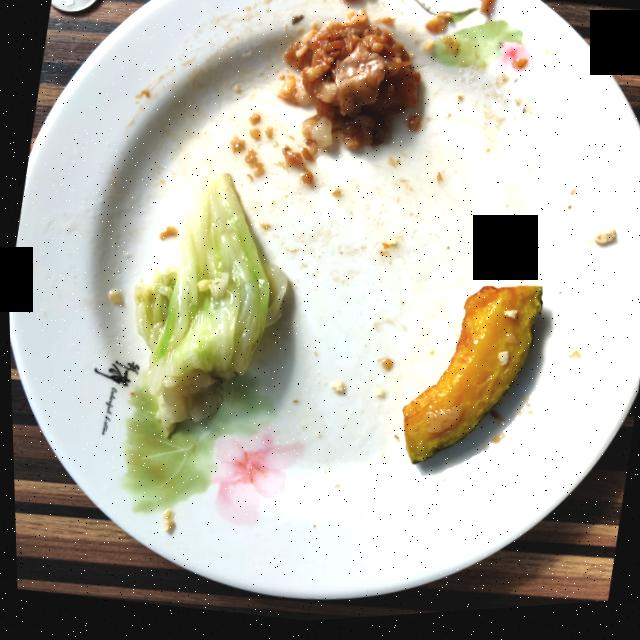Kabayaki sea bream fillet: (284, 15, 419, 150)
cabbage: (132, 175, 286, 436)
coin: (51, 0, 97, 12)
pumpkin: (400, 291, 540, 468)
